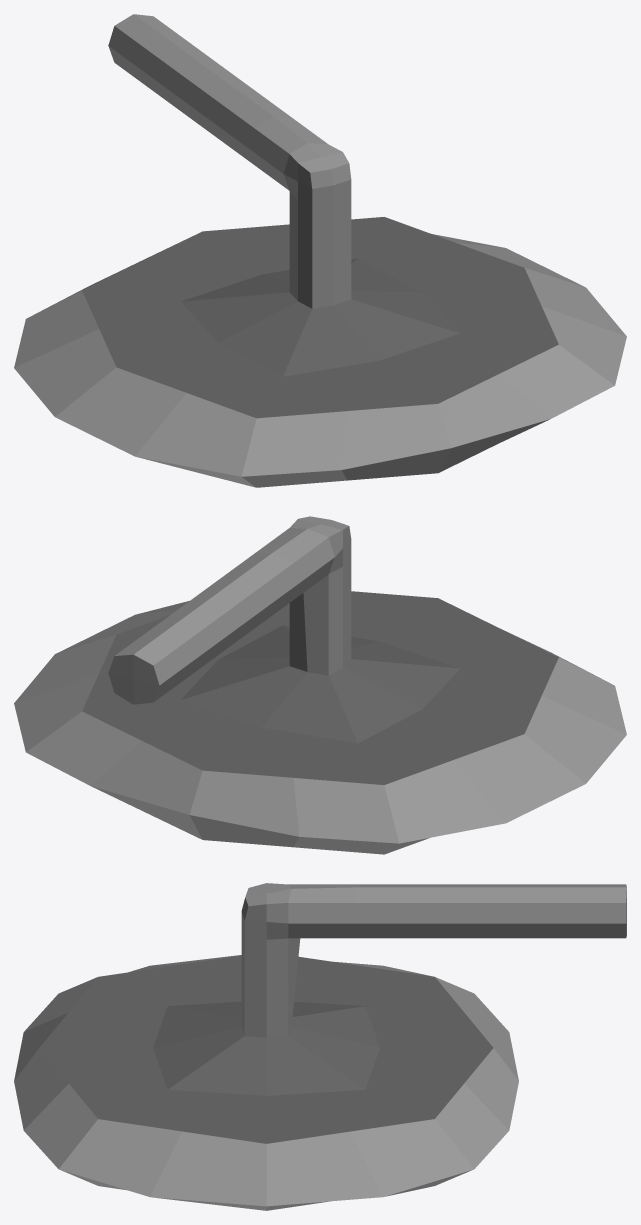
Rendered from Props_Bathroom_Shower.fbx.
The picture shows the model from 3 angles, top to bottom: view 1: azimuth 30°, elevation 25°; view 2: azimuth 150°, elevation 25°; view 3: azimuth 270°, elevation 25°; orthographic projection. The views are drawn at different scales.
Parts seen in each view (by area): view 1: Cube.002; view 2: Cube.002; view 3: Cube.002.
Boxes of the visible parts, <box> form: Cube.002: <box>14,14,626,487</box>; Cube.002: <box>14,516,626,854</box>; Cube.002: <box>14,883,626,1210</box>.
Bounding box in the file's own units: 200 × 84.77 × 207.
1 material, 1 textured.
